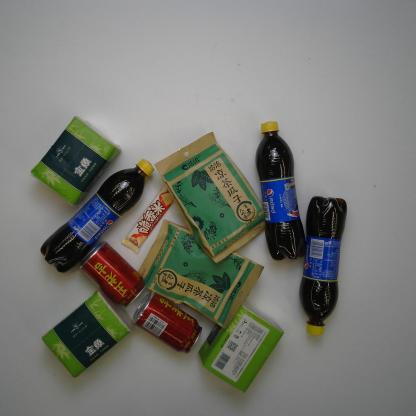Chocolate: (119, 181, 178, 254)
Dried Food: (152, 129, 274, 264), (136, 213, 266, 332)
Drink: (36, 156, 156, 275), (254, 115, 310, 263), (300, 194, 350, 340), (72, 242, 150, 311), (134, 294, 204, 355)
Tissue: (30, 112, 123, 208), (37, 290, 134, 379), (198, 302, 286, 396)
